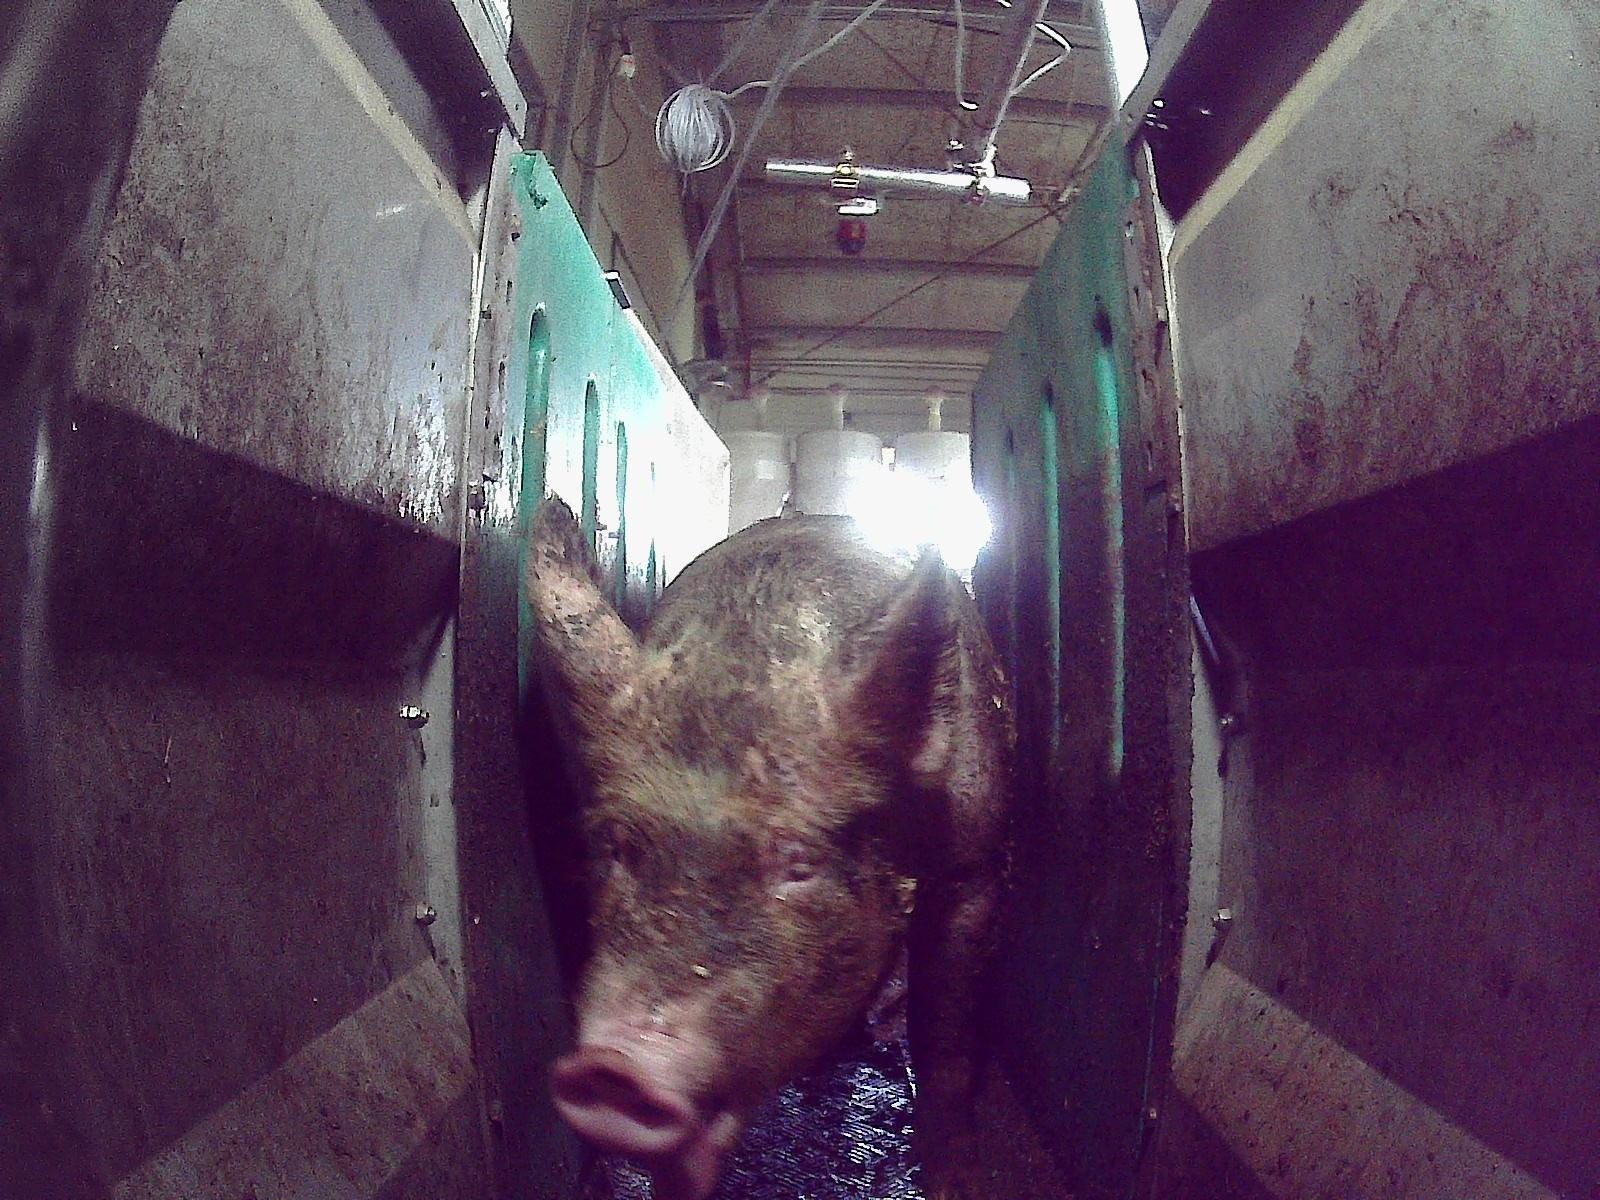Face: (549, 623, 909, 1153)
